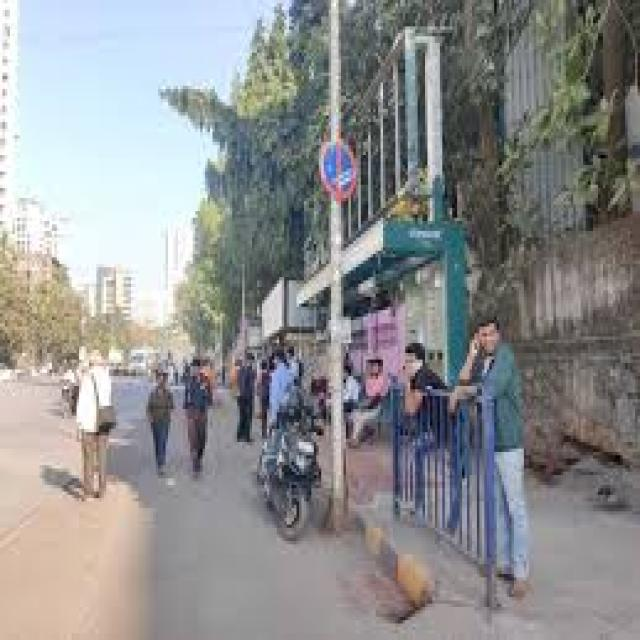motorcycle ahead at: (260, 398, 328, 548)
person ahead at: (454, 318, 538, 605), (76, 346, 120, 504), (146, 364, 179, 481)
